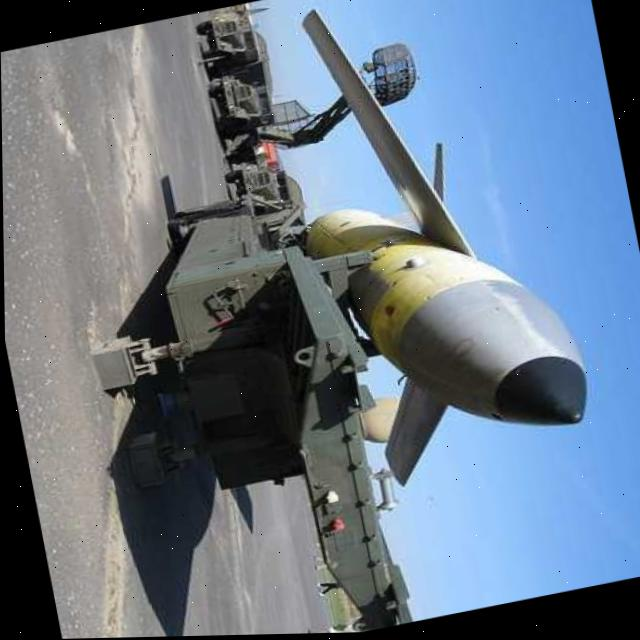missile: (234, 0, 601, 485)
